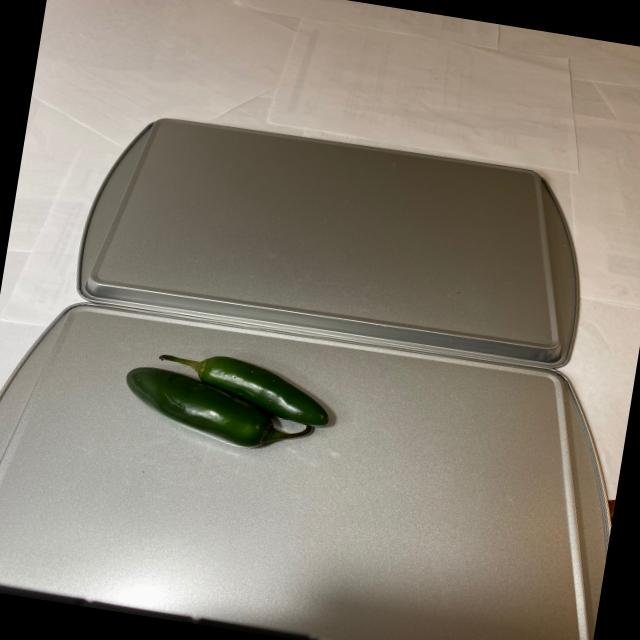chilli: (104, 342, 347, 470)
